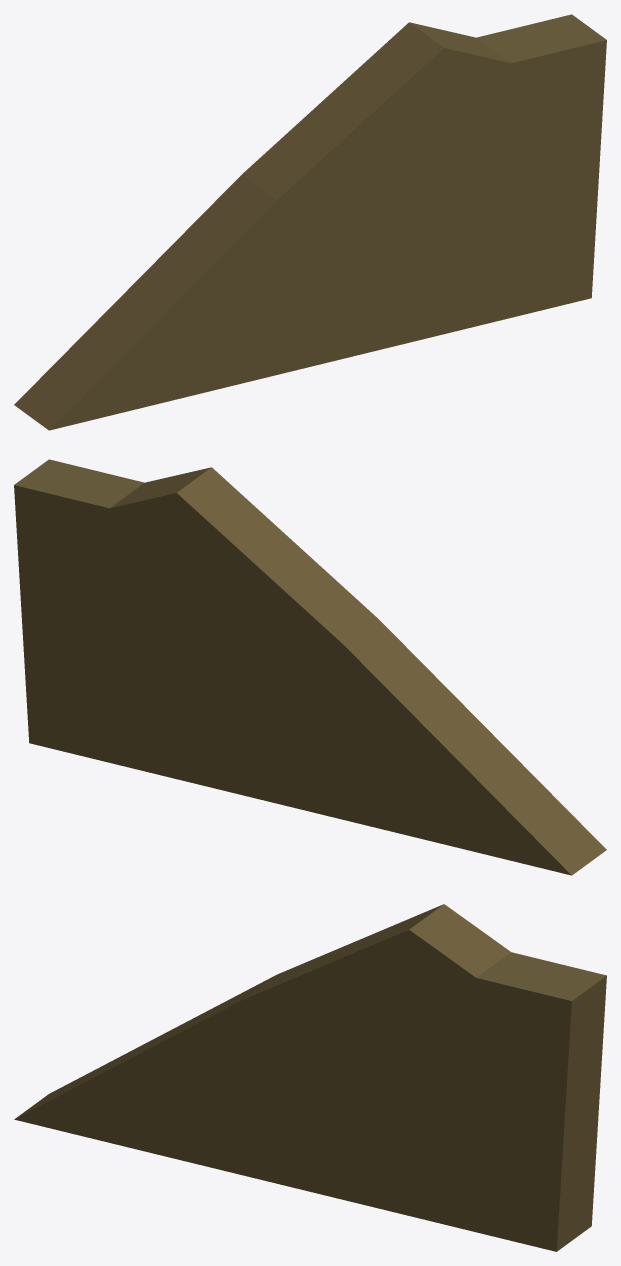
Rendered from chart_obstacle_004.obj.
3 renders of one model, top to bottom at view 1: azimuth 30°, elevation 25°; view 2: azimuth 150°, elevation 25°; view 3: azimuth 330°, elevation 25°, orthographic.
Visible parts, largest first — view 1: chart_obstacle_004; view 2: chart_obstacle_004; view 3: chart_obstacle_004.
Boxes of the visible parts, x1=… form: chart_obstacle_004: x1=14, y1=14, x2=606, y2=430; chart_obstacle_004: x1=14, y1=459, x2=606, y2=875; chart_obstacle_004: x1=14, y1=904, x2=606, y2=1251.
Size of the model in its own units: 73.41 by 36 by 8.
